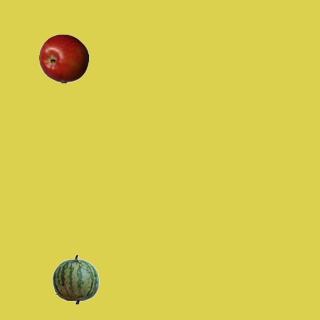Apple Braeburn: (38, 33, 88, 83)
Watermelon: (50, 254, 100, 304)
